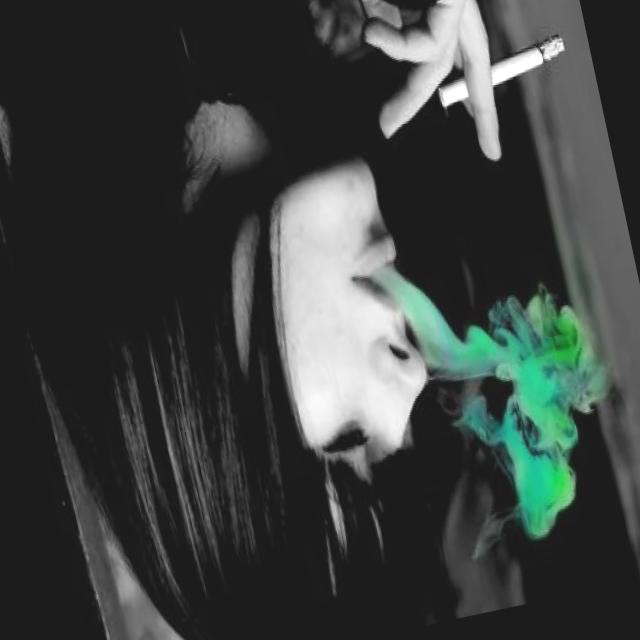cigarette: (426, 20, 575, 111)
